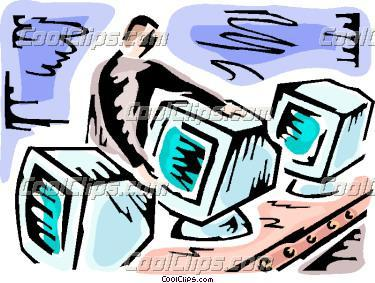person: (87, 12, 246, 184)
tvmonitor: (138, 97, 274, 238), (13, 144, 155, 270), (267, 78, 374, 197)
